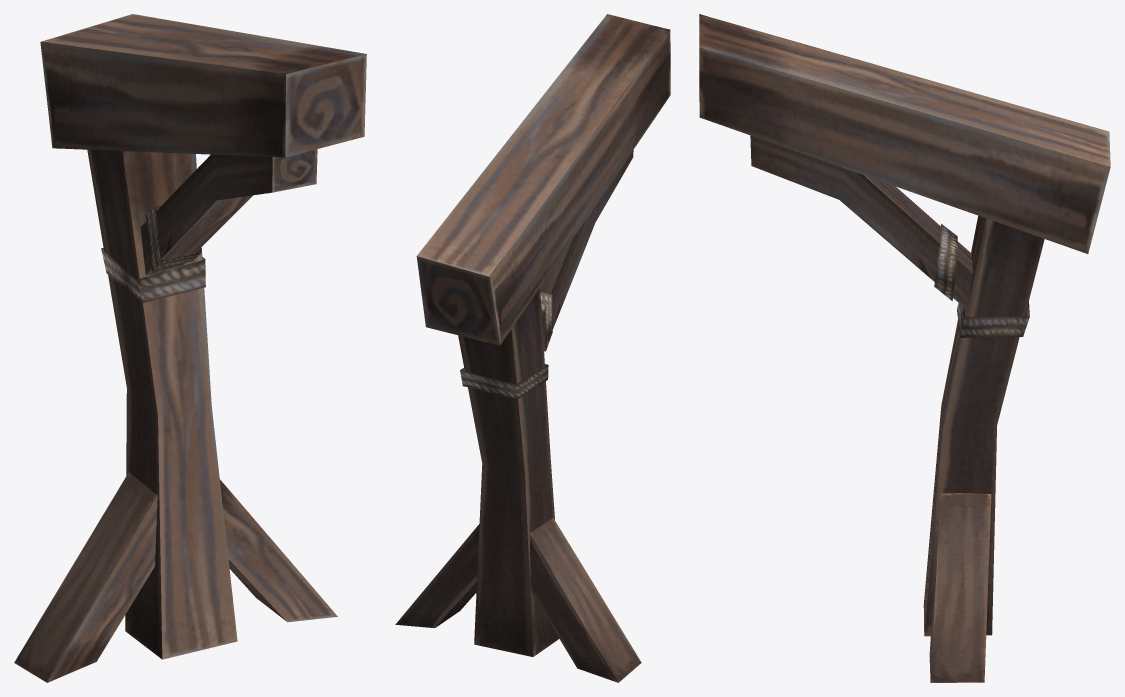
Rendered from mine_support_01.fbx.
3 renders of one model, left to right at view 1: azimuth 30°, elevation 25°; view 2: azimuth 150°, elevation 25°; view 3: azimuth 270°, elevation 25°, orthographic. The views are drawn at different scales.
Visible parts, largest first — view 1: mine_supports; view 2: mine_supports; view 3: mine_supports.
Boxes of the visible parts, left/top/right/bottom form: mine_supports: left=14, top=14, right=366, bottom=682; mine_supports: left=395, top=14, right=670, bottom=682; mine_supports: left=699, top=14, right=1110, bottom=682.
Size of the model in its own units: 2.79 by 6.33 by 3.99.
